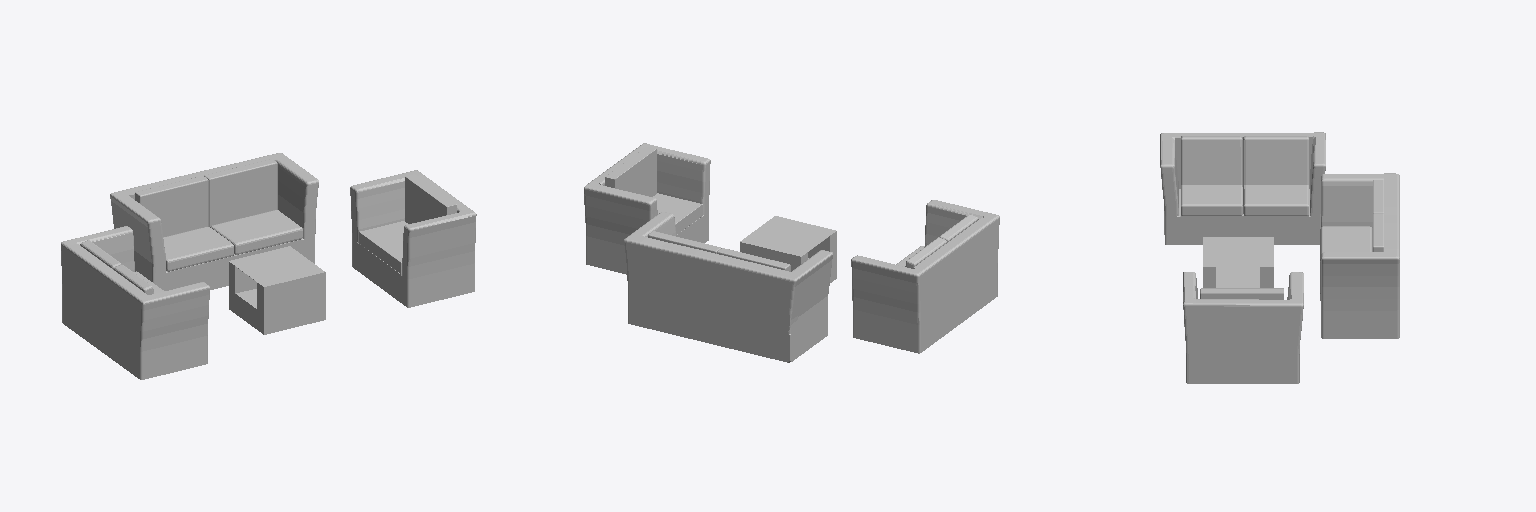
Rendered from outdoorsofa.obj.
3 renders of one model, left to right at view 1: azimuth 30°, elevation 25°; view 2: azimuth 150°, elevation 25°; view 3: azimuth 270°, elevation 25°, orthographic.
Visible parts, largest first — view 1: Box006, Box007, Box001, Box008, Box004, Box005, Box003, Box009, Box002, ChamferBox006, ChamferBox005; view 2: Box001, Box006, Box007, Box009, ChamferBox006, Box008, ChamferBox005, Box004, Box005; view 3: Box001, Box007, Box006, ChamferBox003, ChamferBox004, Box009, ChamferBox001, ChamferBox002, Box008, Box002, ChamferBox006.
Boxes of the visible parts, x1=… form: Box006: x1=61, y1=226, x2=209, y2=379; Box007: x1=350, y1=170, x2=476, y2=307; Box001: x1=110, y1=153, x2=318, y2=290; Box008: x1=229, y1=262, x2=325, y2=334; Box004: x1=204, y1=159, x2=277, y2=226; Box005: x1=135, y1=176, x2=208, y2=236; Box003: x1=210, y1=210, x2=302, y2=254; Box009: x1=229, y1=246, x2=324, y2=286; Box002: x1=163, y1=227, x2=233, y2=271; ChamferBox006: x1=405, y1=174, x2=456, y2=223; ChamferBox005: x1=359, y1=221, x2=407, y2=273; Box001: x1=624, y1=212, x2=832, y2=362; Box006: x1=851, y1=200, x2=999, y2=353; Box007: x1=584, y1=143, x2=710, y2=274; Box009: x1=740, y1=216, x2=835, y2=256; ChamferBox006: x1=605, y1=147, x2=656, y2=196; Box008: x1=740, y1=231, x2=836, y2=282; ChamferBox005: x1=653, y1=193, x2=702, y2=234; Box004: x1=648, y1=231, x2=720, y2=253; Box005: x1=717, y1=248, x2=790, y2=271; Box001: x1=1321, y1=173, x2=1399, y2=338; Box007: x1=1183, y1=272, x2=1303, y2=383; Box006: x1=1160, y1=132, x2=1325, y2=244; ChamferBox003: x1=1243, y1=136, x2=1308, y2=185; ChamferBox004: x1=1181, y1=136, x2=1242, y2=184; Box009: x1=1203, y1=237, x2=1273, y2=266; ChamferBox001: x1=1243, y1=185, x2=1308, y2=215; ChamferBox002: x1=1181, y1=185, x2=1242, y2=215; Box008: x1=1203, y1=267, x2=1273, y2=287; Box002: x1=1320, y1=226, x2=1372, y2=261; ChamferBox006: x1=1200, y1=288, x2=1283, y2=299.
Bounding box in the file's own units: 153 × 36.62 × 91.67.